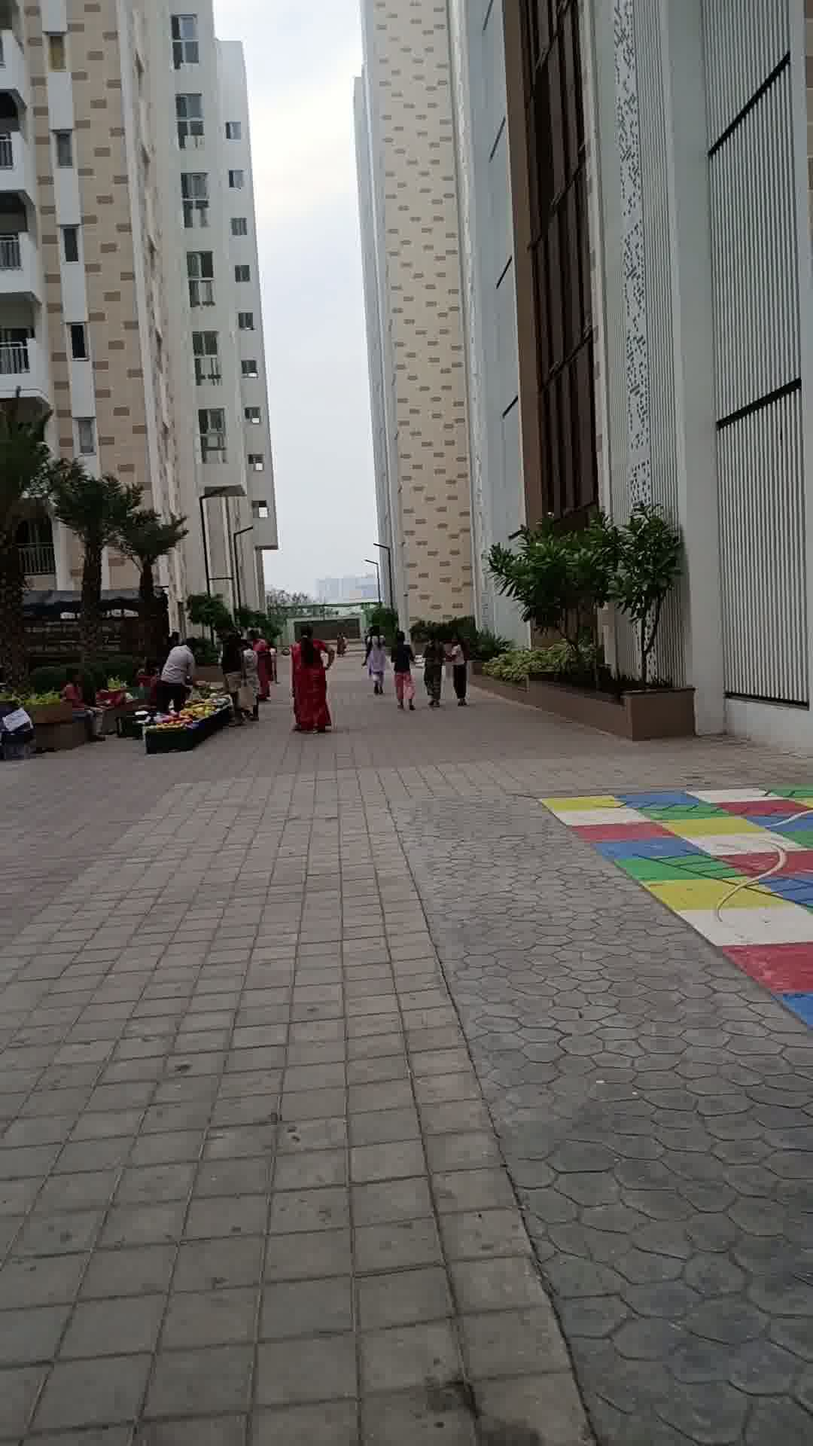person: (283, 607, 344, 738), (238, 616, 285, 716), (156, 622, 198, 716), (356, 614, 391, 703), (419, 622, 451, 719), (386, 616, 415, 723), (447, 614, 465, 725)
tree: (498, 501, 629, 683), (606, 478, 703, 714), (48, 433, 125, 712), (117, 481, 182, 717)
